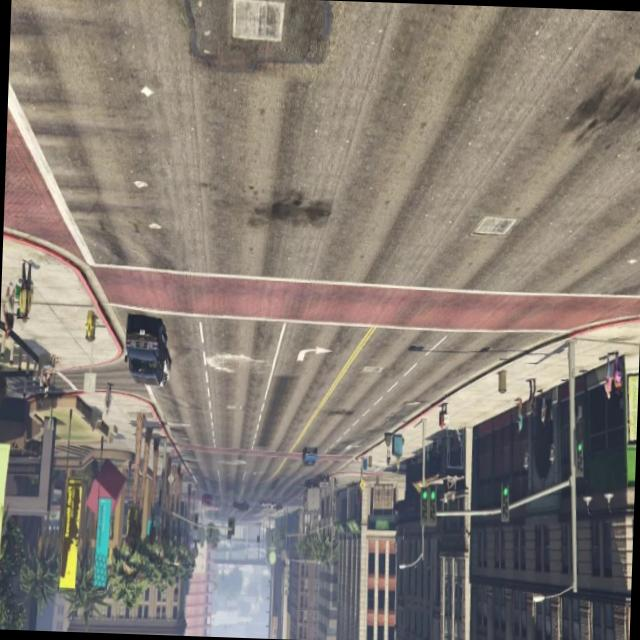Green-Signal: (416, 475, 441, 533), (572, 428, 588, 484), (497, 476, 512, 530)
